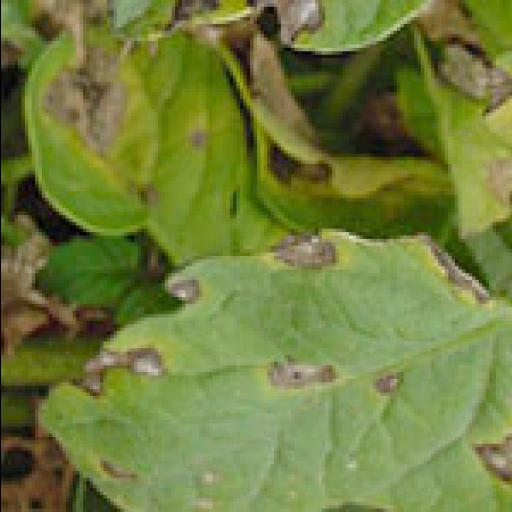disease_tomato: (38, 228, 512, 512)
